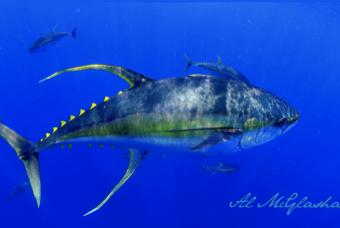Scombridae -Tunas-: (0, 58, 299, 220), (26, 20, 81, 52)
